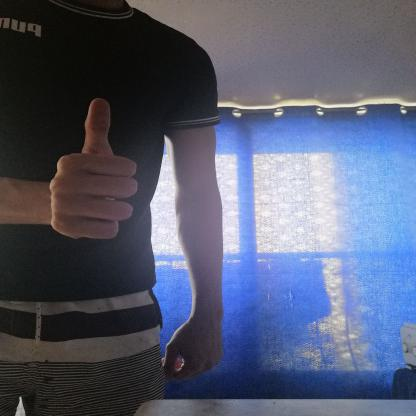ALIF: (33, 81, 159, 253)
